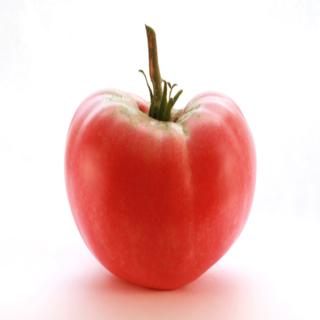tomato: (64, 22, 255, 288)
